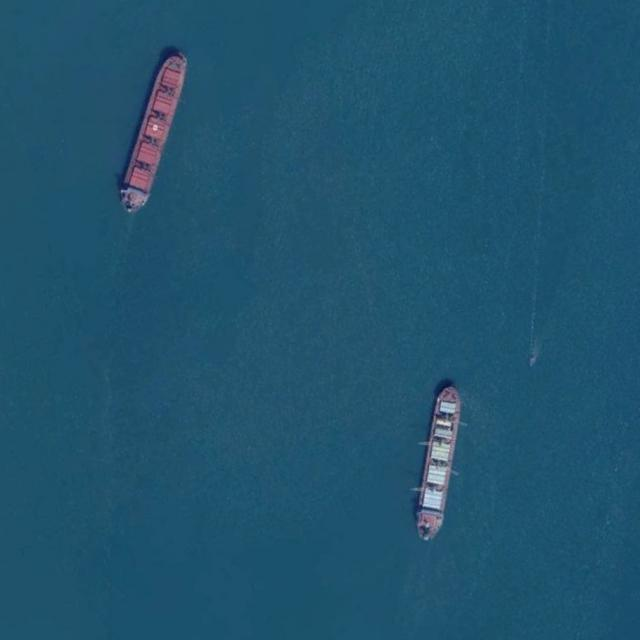ship: (116, 52, 189, 212), (413, 383, 463, 541)
